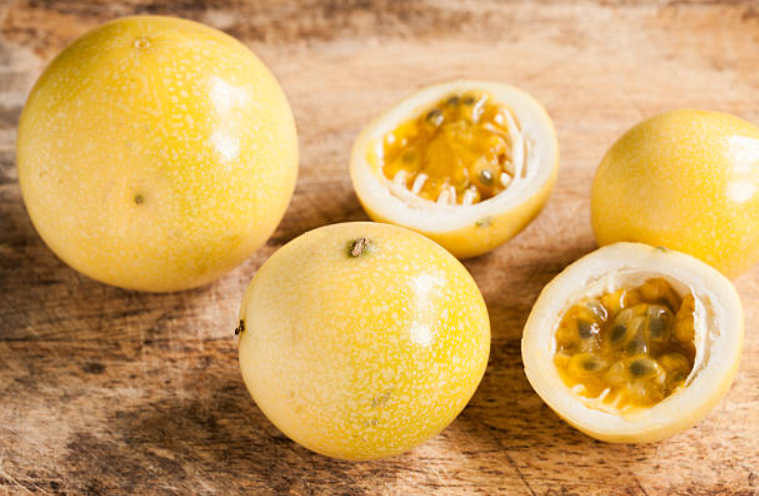maracuya: (14, 14, 303, 305), (239, 219, 492, 466), (585, 107, 759, 280)
